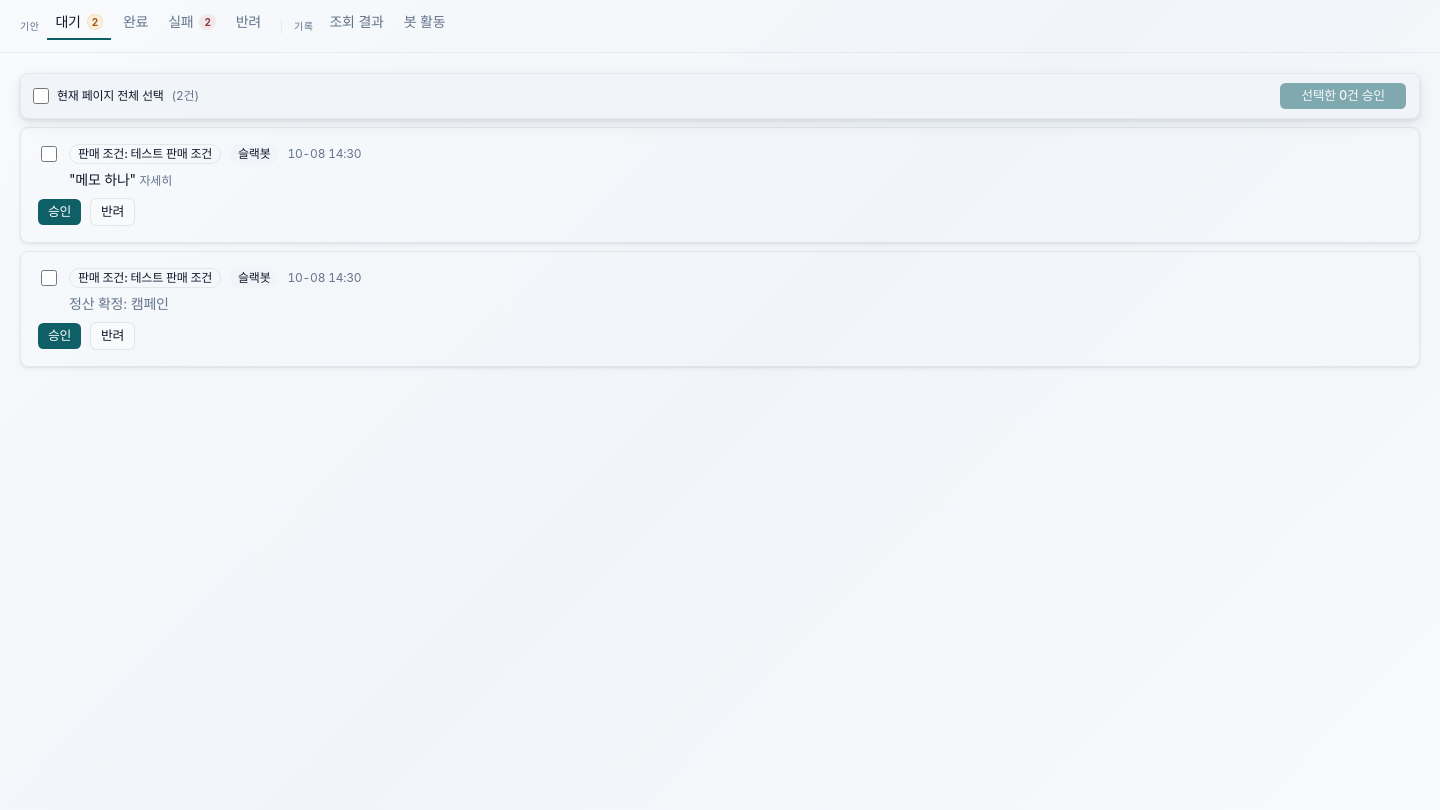
Test: 결재함 대기 탭 — 일괄 승인 › ③-b 정산 확정이 섞이면 되돌릴 수 없다는 경고를 건수와 함께 보여 준다
This screenshot has width=1440, height=810.
Click the checkbox labelled "현재 페이지 전체 선택 (2건)".
click(41, 96)  # box [33,88,49,104]
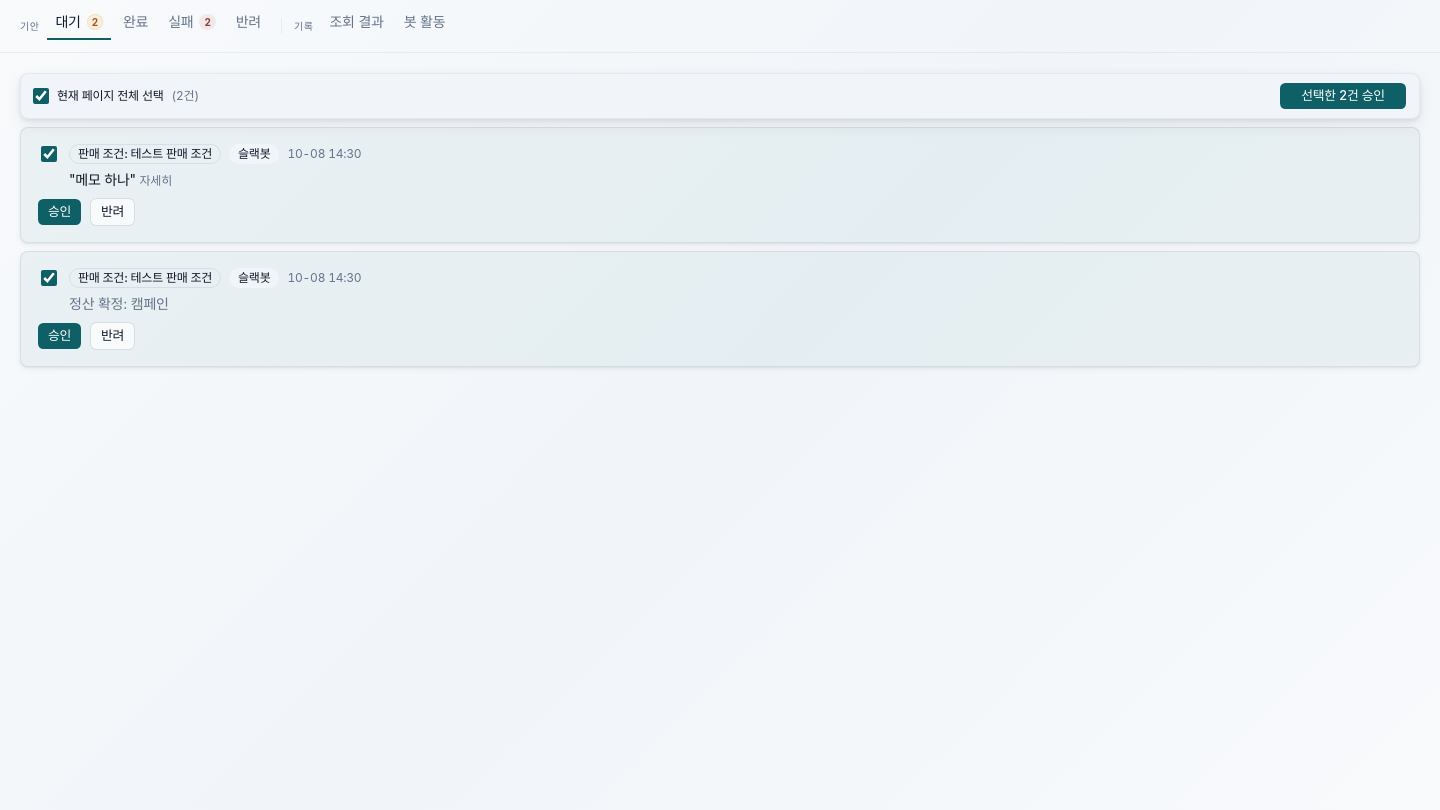
Click the button "선택한 2건 승인".
click(1343, 96)  # box [1279,82,1407,110]
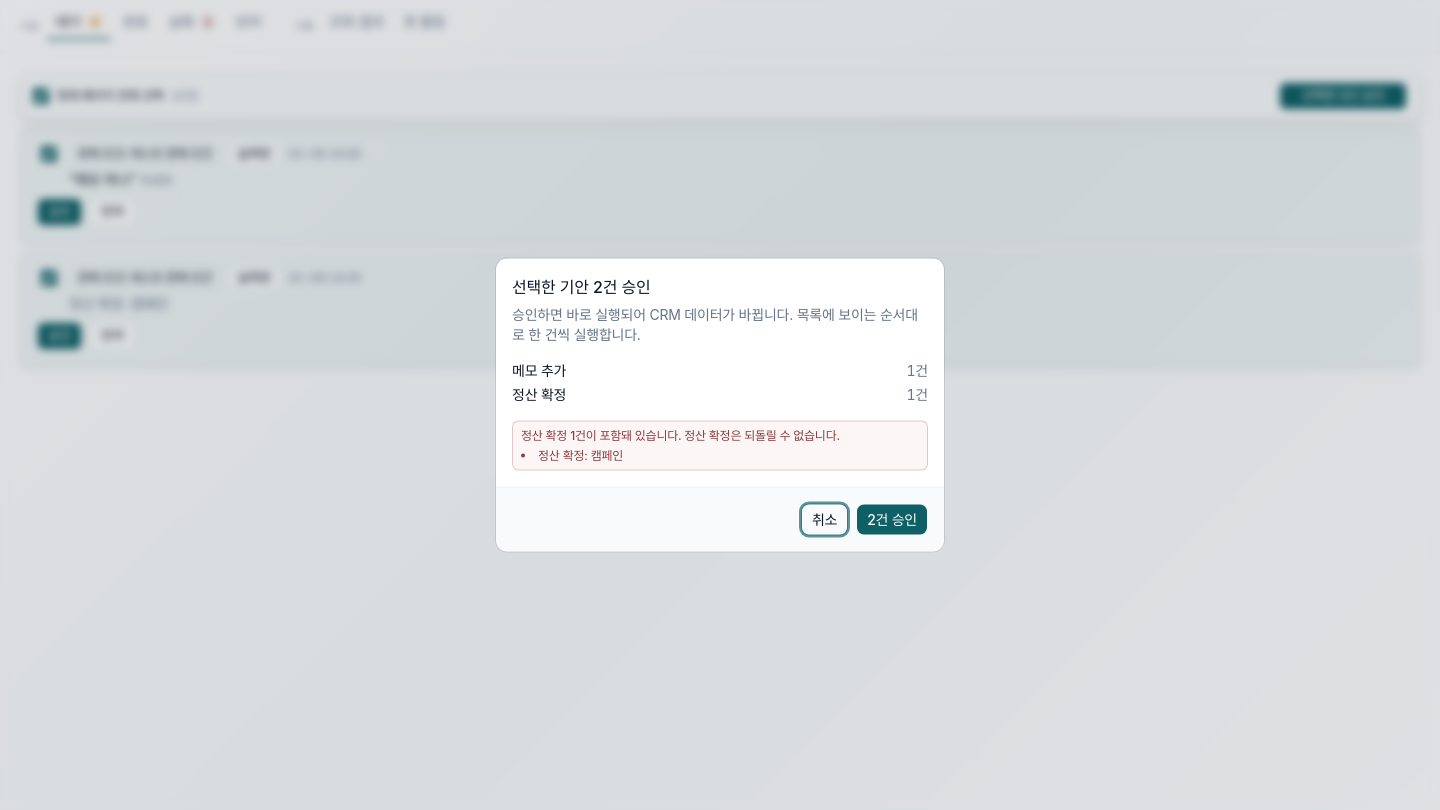
Now the text "정산 확정 1건이 포함돼 있습니다. 정산 확정은 되돌릴 수 없습니다." is shown, box [521,428,840,442]
